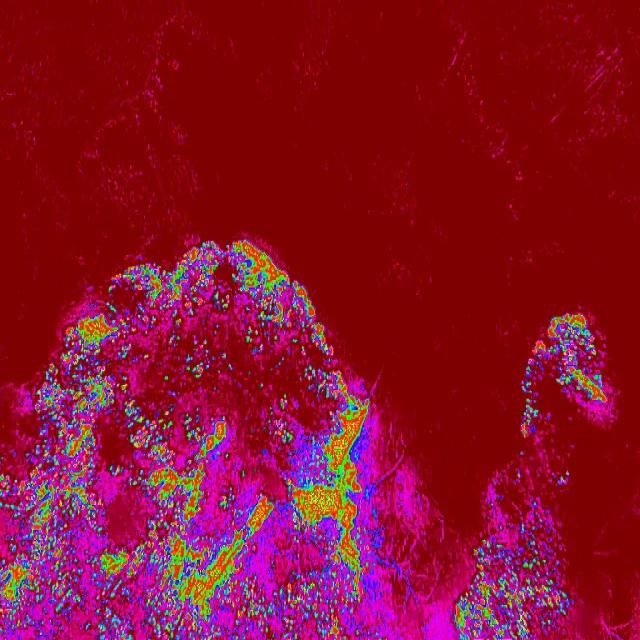fire: (0, 396, 406, 640), (36, 352, 350, 397), (447, 530, 572, 640), (107, 261, 315, 314), (61, 314, 331, 352), (522, 306, 612, 406), (178, 236, 270, 262), (522, 404, 540, 436)
